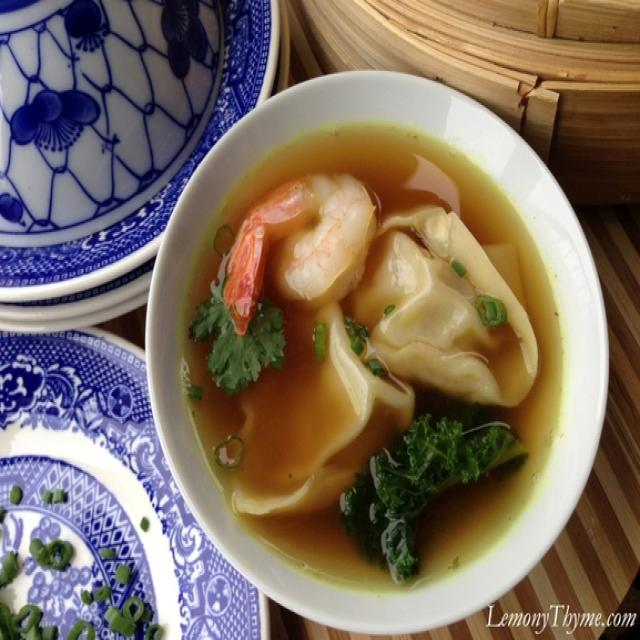汤锅炖物: (163, 94, 591, 602)
